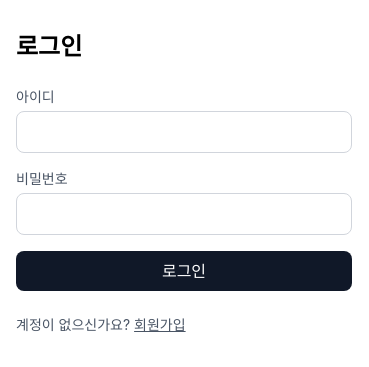
Test case: LoginPage › 로그인 실패 시 에러 메시지를 보여준다
Type "testuser" into the field labelled "아이디" at coordinates (184, 132), box [16,111,352,153]
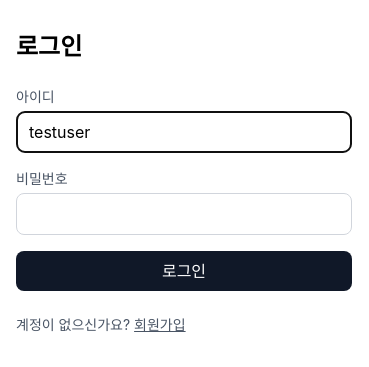
Type "틀린 비밀번호입니다" into the password field labelled "비밀번호" at coordinates (184, 214), box [16,193,352,235]
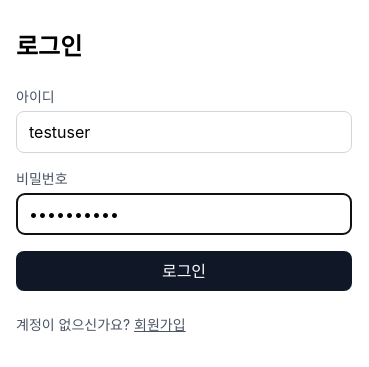
Click the button "로그인" at coordinates (184, 271), box [16,251,352,291]
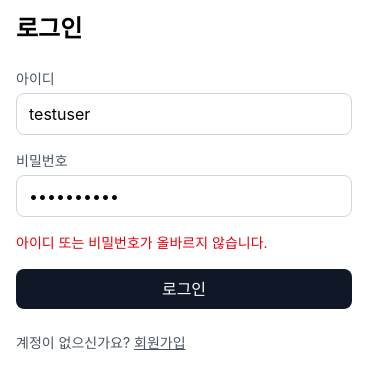
Result: the message reads "아이디 또는 비밀번호가 올바르지 않습니다." at [16,234,268,251]
